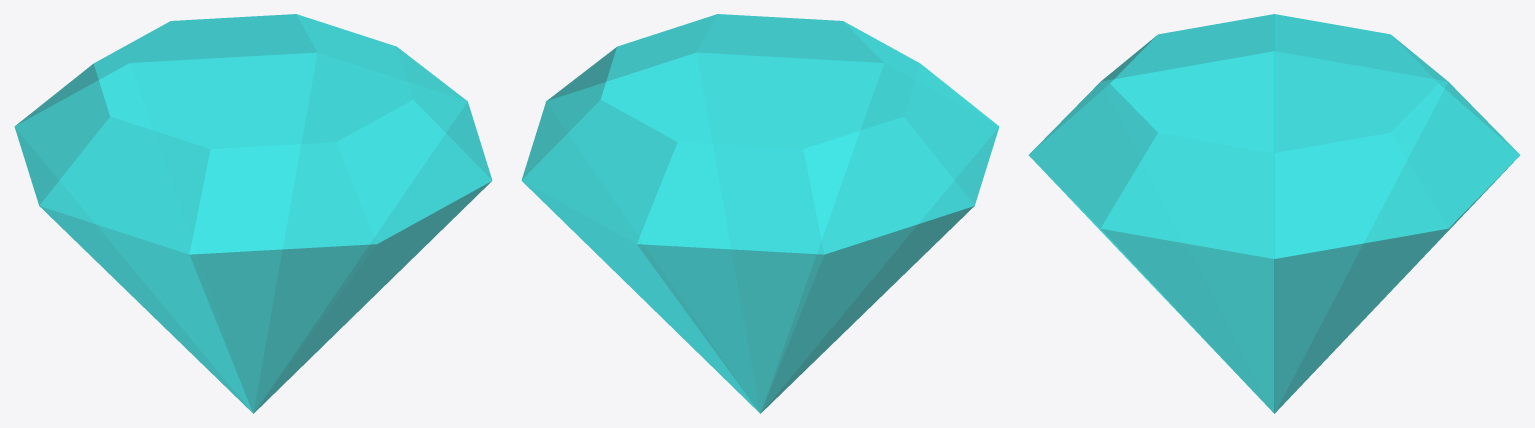
File: DiamondLambert.fbx
3 views of the same model, side by side, from view 1: azimuth 30°, elevation 25°; view 2: azimuth 150°, elevation 25°; view 3: azimuth 270°, elevation 25° (orthographic).
Visible parts, largest first — view 1: pCone1; view 2: pCone1; view 3: pCone1.
Boxes of the visible parts, left/top/right/bottom form: pCone1: left=14, top=14, right=492, bottom=413; pCone1: left=521, top=14, right=999, bottom=413; pCone1: left=1028, top=14, right=1520, bottom=413.
Size of the model in its own units: 5.45 by 4.04 by 5.45.
